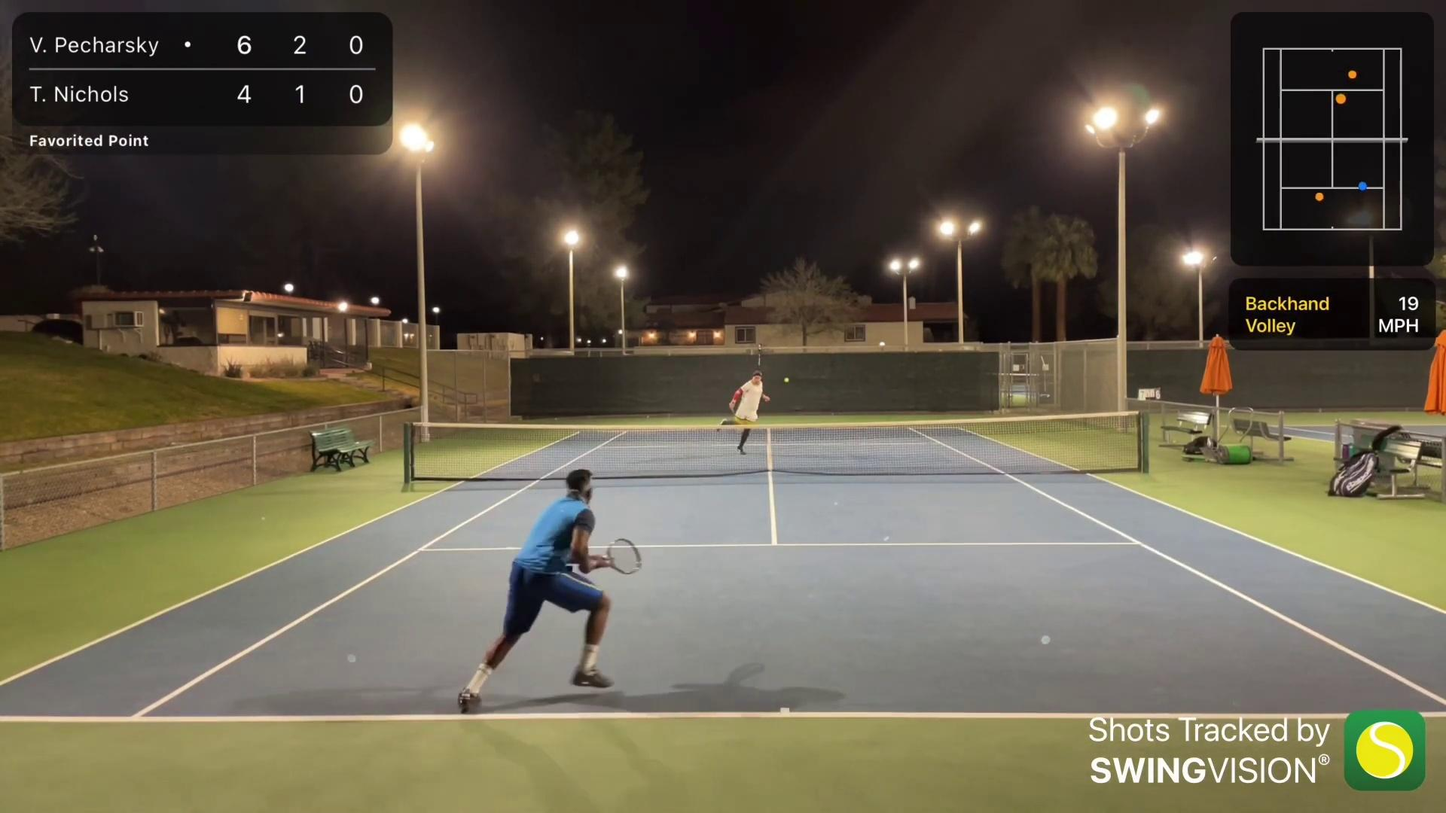ball: (785, 377, 790, 382)
